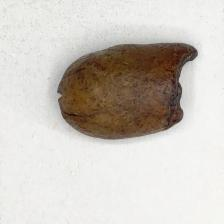NG: (163, 41, 198, 126)
